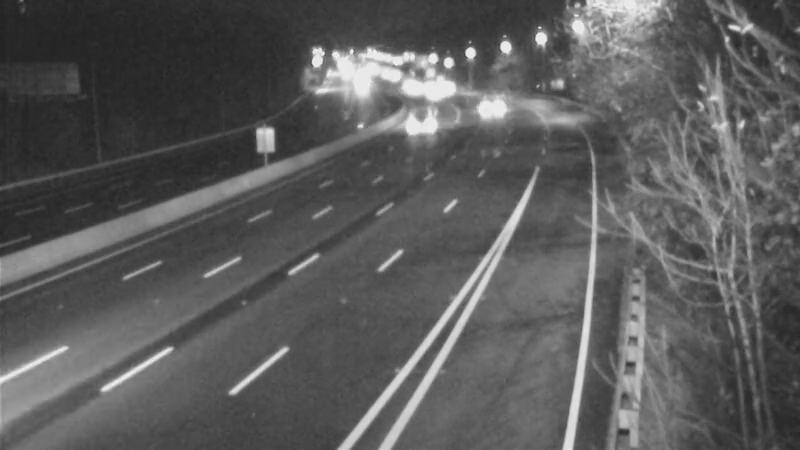vehicle: (409, 69, 459, 119), (459, 77, 509, 127), (397, 96, 447, 146)
